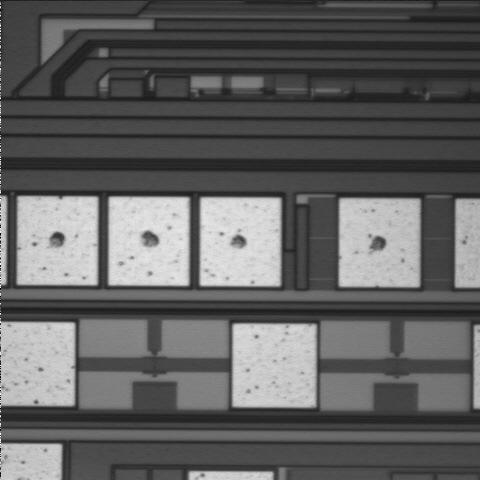pad: (17, 197, 98, 285), (200, 198, 281, 286), (109, 197, 189, 286), (339, 199, 419, 287), (233, 324, 316, 407)
